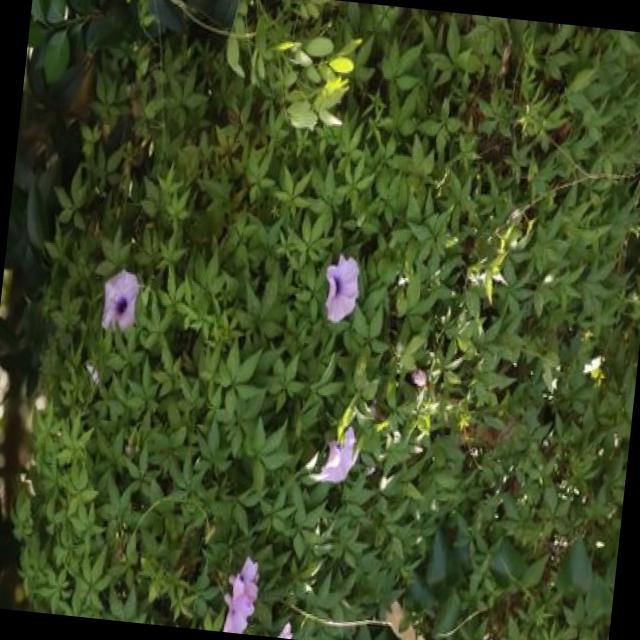ipomoea: (306, 417, 364, 493), (217, 548, 266, 634), (317, 247, 366, 331), (95, 262, 144, 338)
